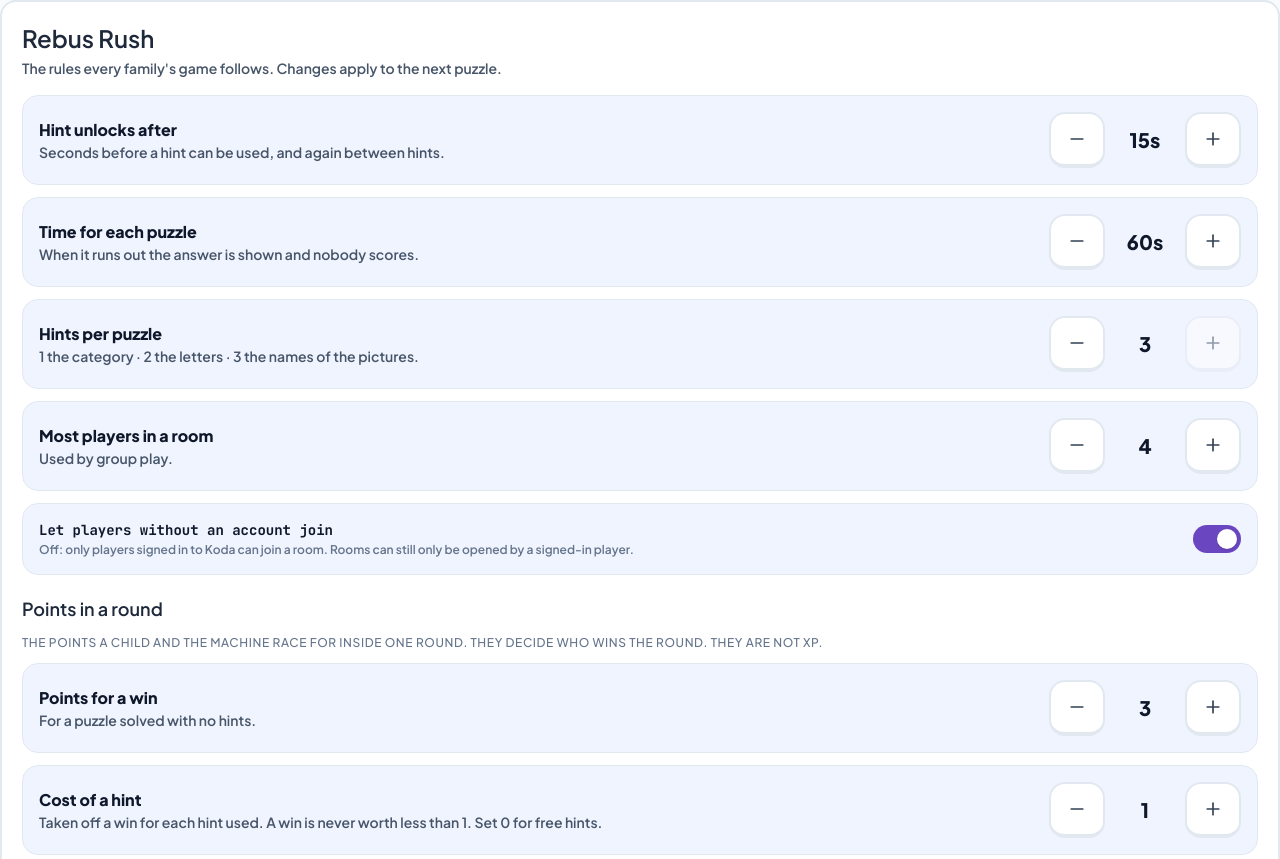
Test case: the owner's panel › loads the live values, lets the owner change them, saves them, and applies them on this device at once
This screenshot has width=1280, height=859.
Click the button named "Hint unlocks after +": (1213, 140) [1185,112,1241,168]
(page scrolled)
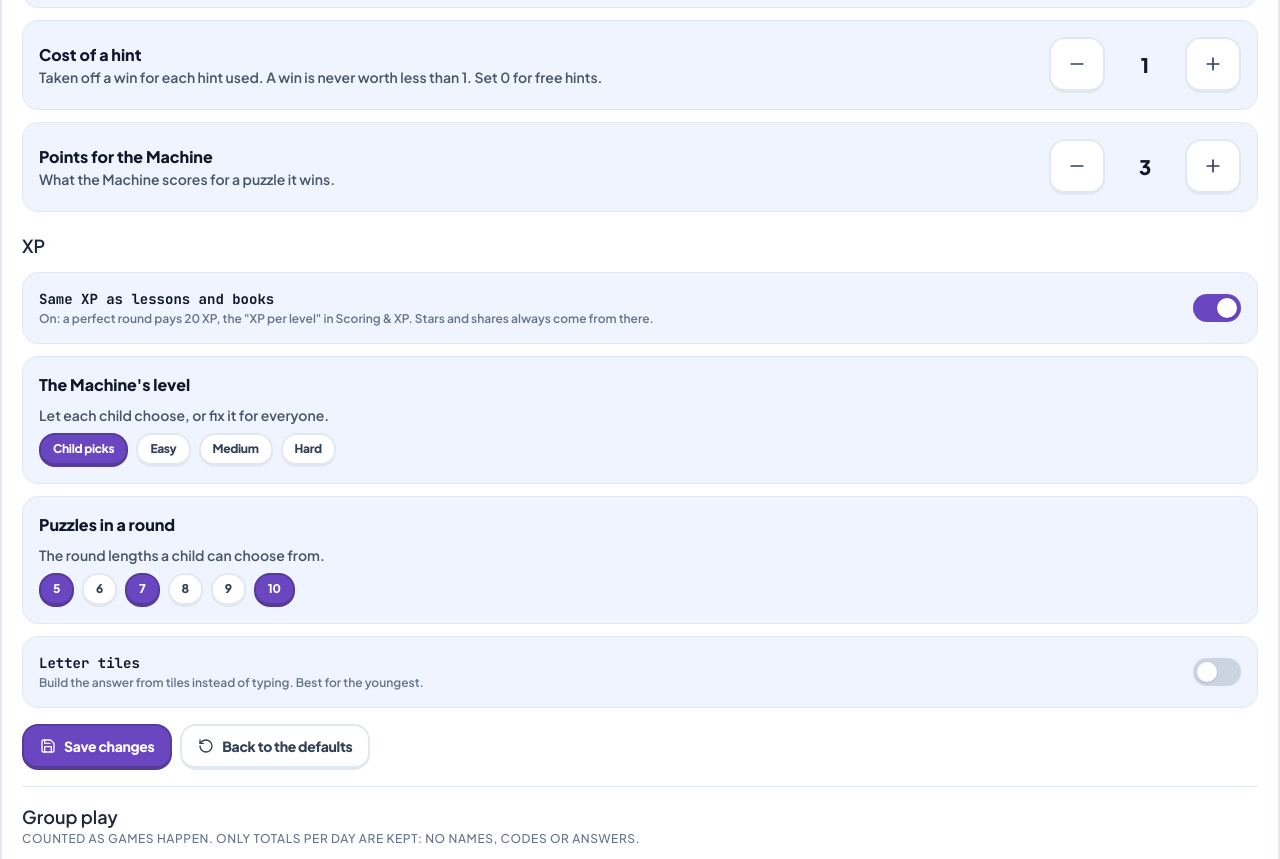
Click the tab "Hard": (308, 450) [280,433,336,467]
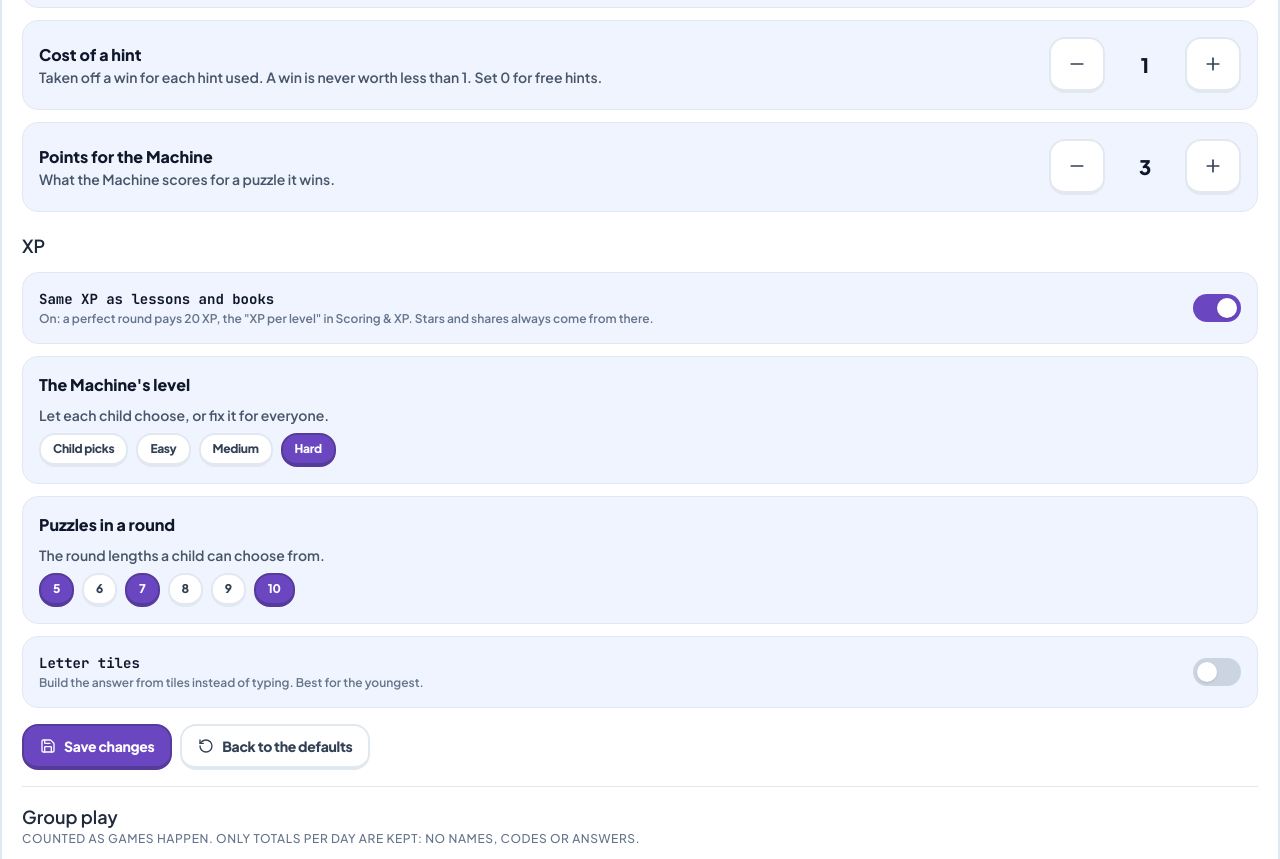
Click the switch named "Letter tiles": (1217, 672) [1193,658,1241,686]
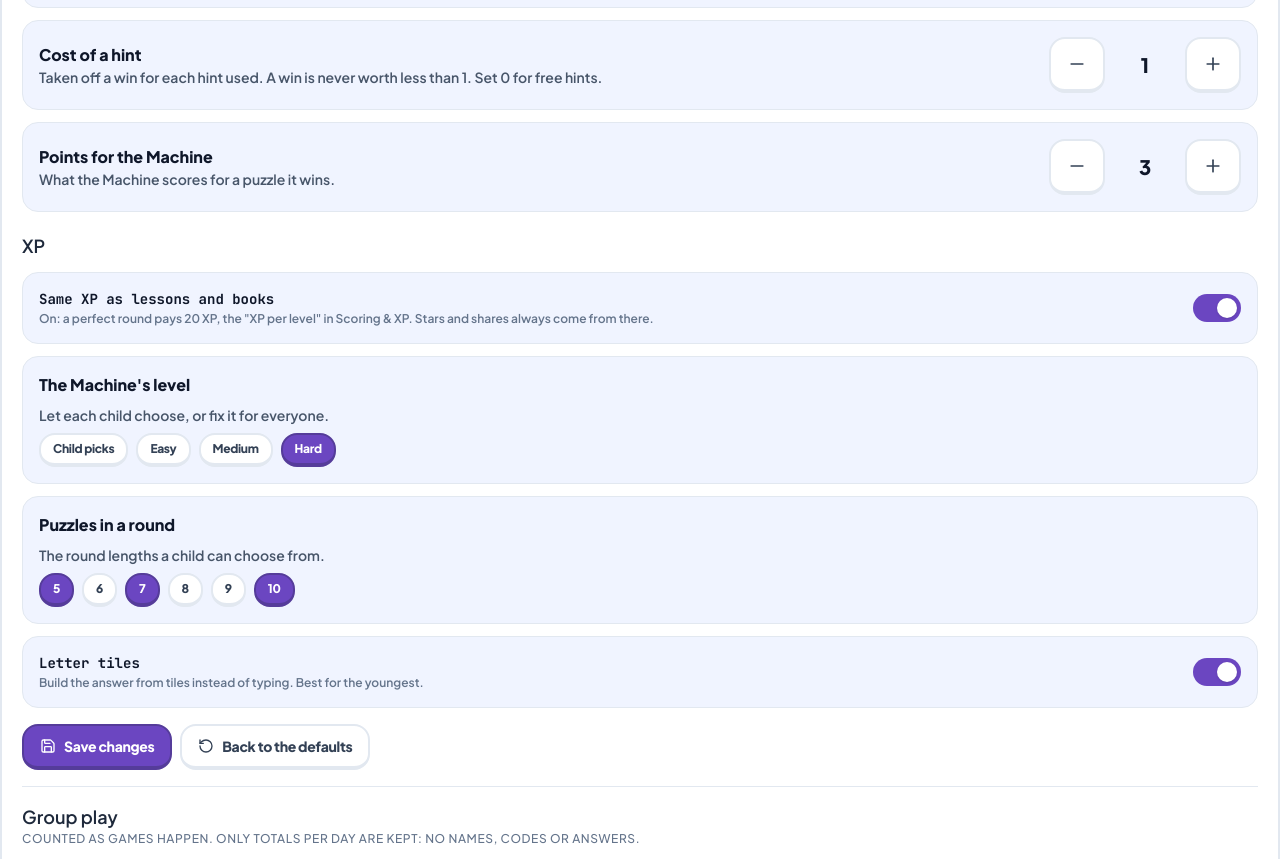
Expected: the button "Save changes" is enabled
Click the button "Save changes": (97, 747) [22,724,172,770]
(page scrolled)
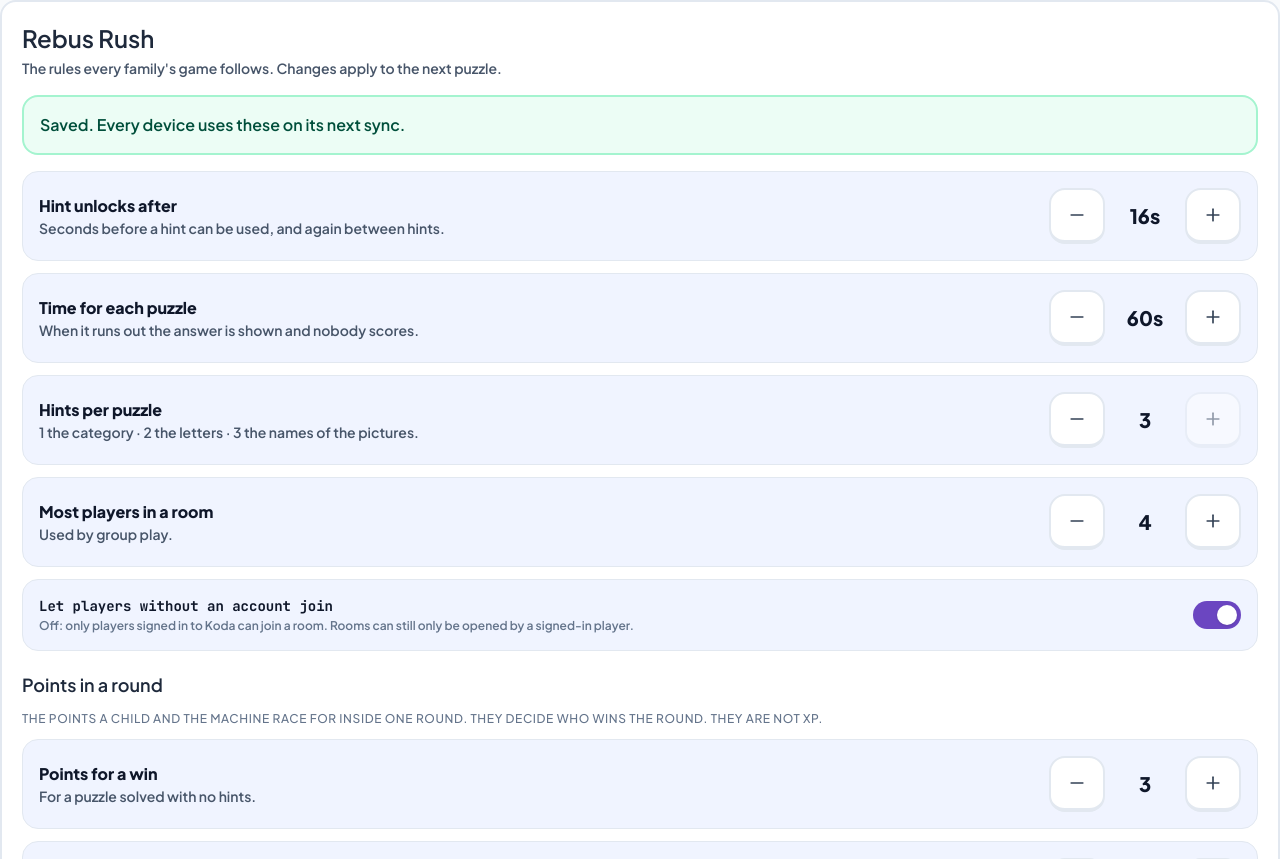
Expected: the text "Saved. Every device uses these on its next sync." is shown, [22,95,1258,155]
